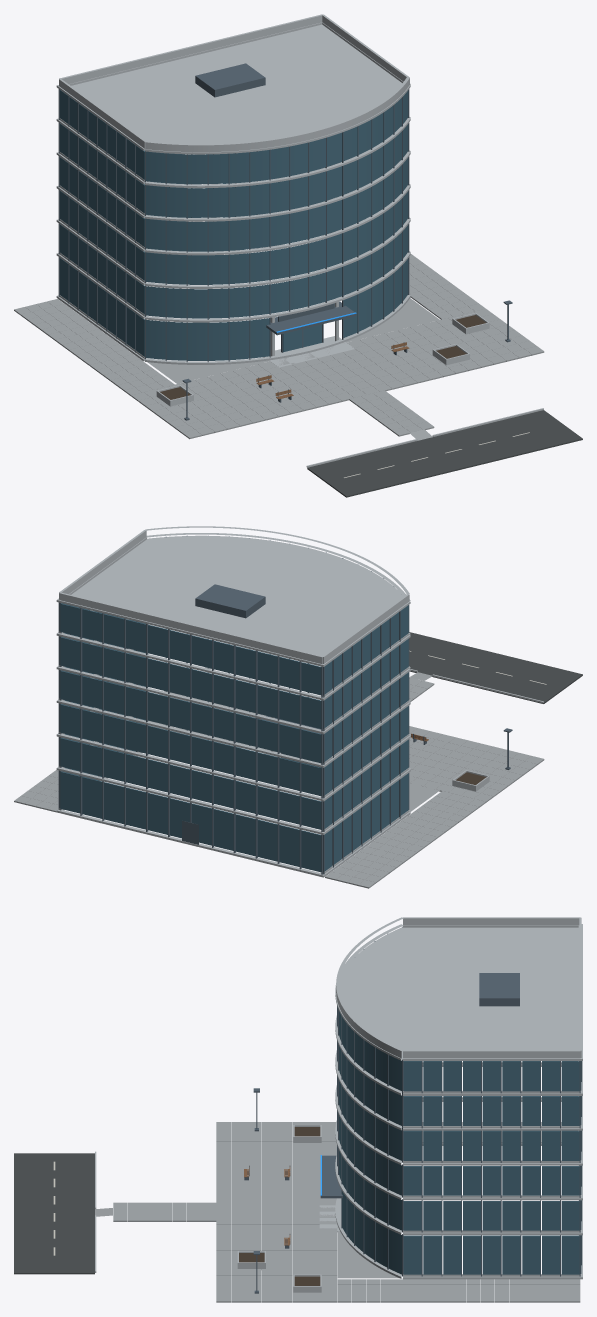
Rendered from landmark.glb.
The picture shows the model from 3 angles, top to bottom: view 1: azimuth 30°, elevation 25°; view 2: azimuth 150°, elevation 25°; view 3: azimuth 270°, elevation 25°; orthographic projection. The views are drawn at different scales.
Parts seen in each view (by area): view 1: front:glass, plaza:paving, roof:stone, left:glass, front:stone, road:asphalt, front:metal, left:stone, left:metal, link:paving, roof:metal, entry:metal (+7 smaller); view 2: rear:glass, roof:stone, left:glass, plaza:paving, rear:stone, rear:metal, road:asphalt, left:metal, left:stone, roof:metal, front:stone, right:metal (+3 smaller); view 3: right:glass, roof:stone, plaza:paving, front:glass, road:asphalt, right:stone, front:stone, right:metal, front:metal, link:paving, roof:metal, props:stone (+5 smaller).
Part boxes in pixels (box(x1,y1,x2,y2)): front:glass: box(146, 90, 408, 360); plaza:paving: box(14, 254, 544, 439); roof:stone: box(59, 14, 409, 148); left:glass: box(60, 90, 144, 356); front:stone: box(145, 77, 410, 364); road:asphalt: box(307, 410, 582, 497); front:metal: box(145, 89, 409, 362); left:stone: box(56, 85, 146, 361); left:metal: box(58, 89, 135, 352); link:paving: box(349, 390, 434, 440); roof:metal: box(195, 63, 265, 97); entry:metal: box(266, 301, 356, 352); rear:glass: box(60, 603, 321, 872); roof:stone: box(59, 530, 409, 663); left:glass: box(324, 605, 408, 871); plaza:paving: box(14, 691, 544, 888); rear:stone: box(58, 600, 321, 876); rear:metal: box(80, 608, 322, 874); road:asphalt: box(409, 632, 582, 703); left:metal: box(323, 611, 400, 874); left:stone: box(320, 601, 410, 877); roof:metal: box(195, 584, 265, 618); front:stone: box(145, 526, 410, 811); right:metal: box(58, 602, 137, 810); right:glass: box(403, 1061, 579, 1274); roof:stone: box(339, 917, 581, 1059); plaza:paving: box(216, 1122, 580, 1302); front:glass: box(337, 1008, 401, 1274); road:asphalt: box(14, 1153, 94, 1274); right:stone: box(403, 1057, 582, 1279); front:stone: box(335, 917, 403, 1278); right:metal: box(421, 1061, 580, 1276); front:metal: box(337, 926, 403, 1276); link:paving: box(95, 1202, 216, 1221); roof:metal: box(479, 973, 519, 1006); props:stone: box(237, 1125, 321, 1292).
Bounding box in the file's own units: 41.99 × 25.1 × 56.24.
